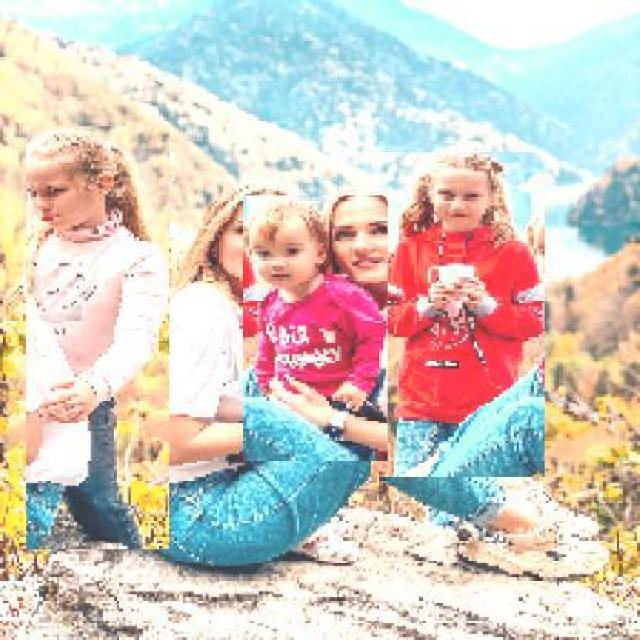child: (25, 126, 169, 551), (369, 152, 545, 478), (242, 196, 388, 462)
